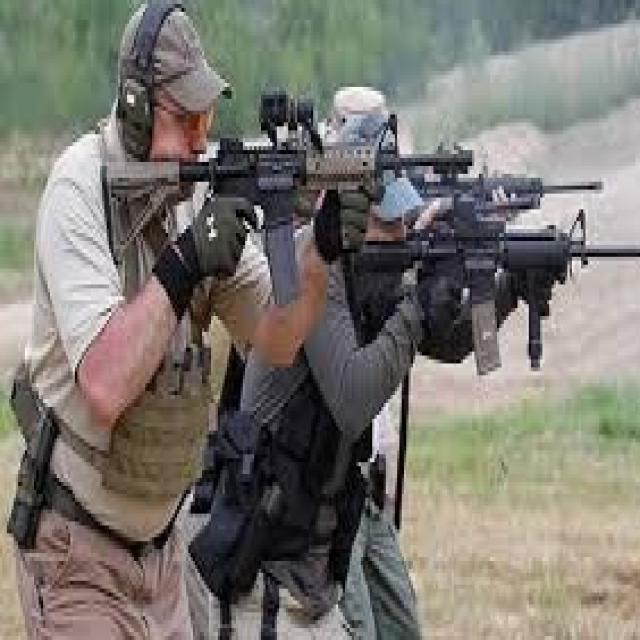gun: (83, 61, 474, 326), (324, 205, 640, 391), (392, 138, 626, 251), (0, 352, 75, 575)
